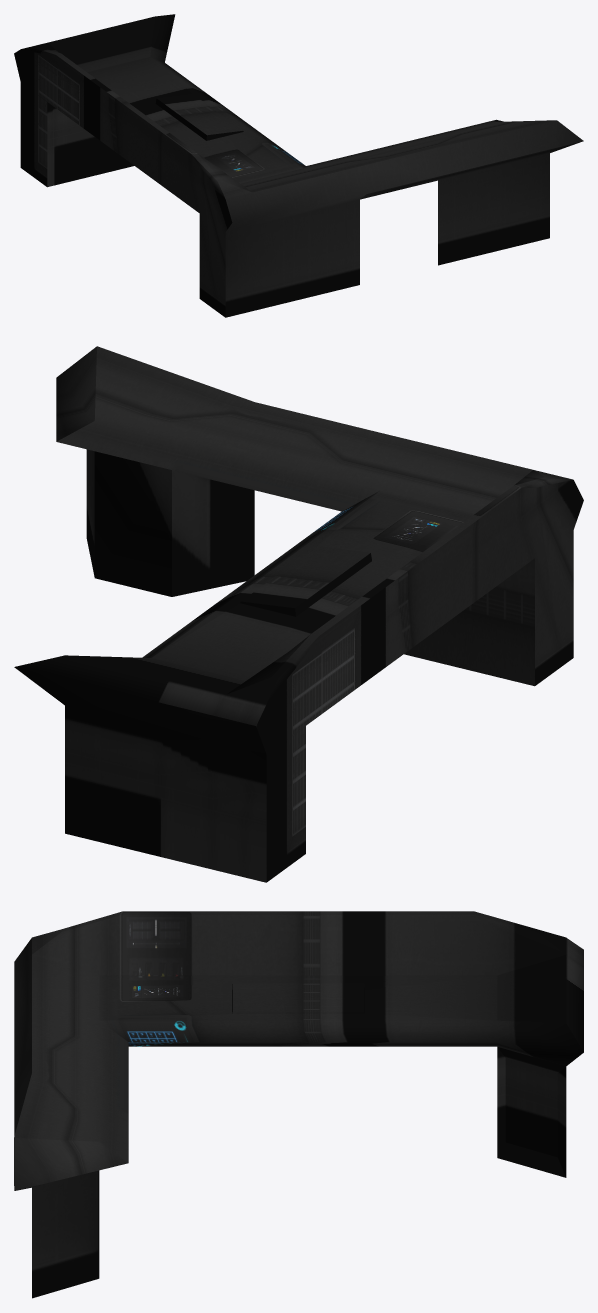
Rendered from BridgeDeskCockpit.fbx.
3 renders of one model, top to bottom at view 1: azimuth 30°, elevation 25°; view 2: azimuth 150°, elevation 25°; view 3: azimuth 270°, elevation 25°, orthographic. The views are drawn at different scales.
Visible parts, largest first — view 1: Desk2; view 2: Desk2; view 3: Desk2.
Boxes of the visible parts, bbox=[...] form: Desk2: bbox=[14, 14, 583, 317]; Desk2: bbox=[14, 346, 583, 882]; Desk2: bbox=[14, 911, 583, 1298].
Bounding box in the file's own units: 3.96 × 1.49 × 4.26.
